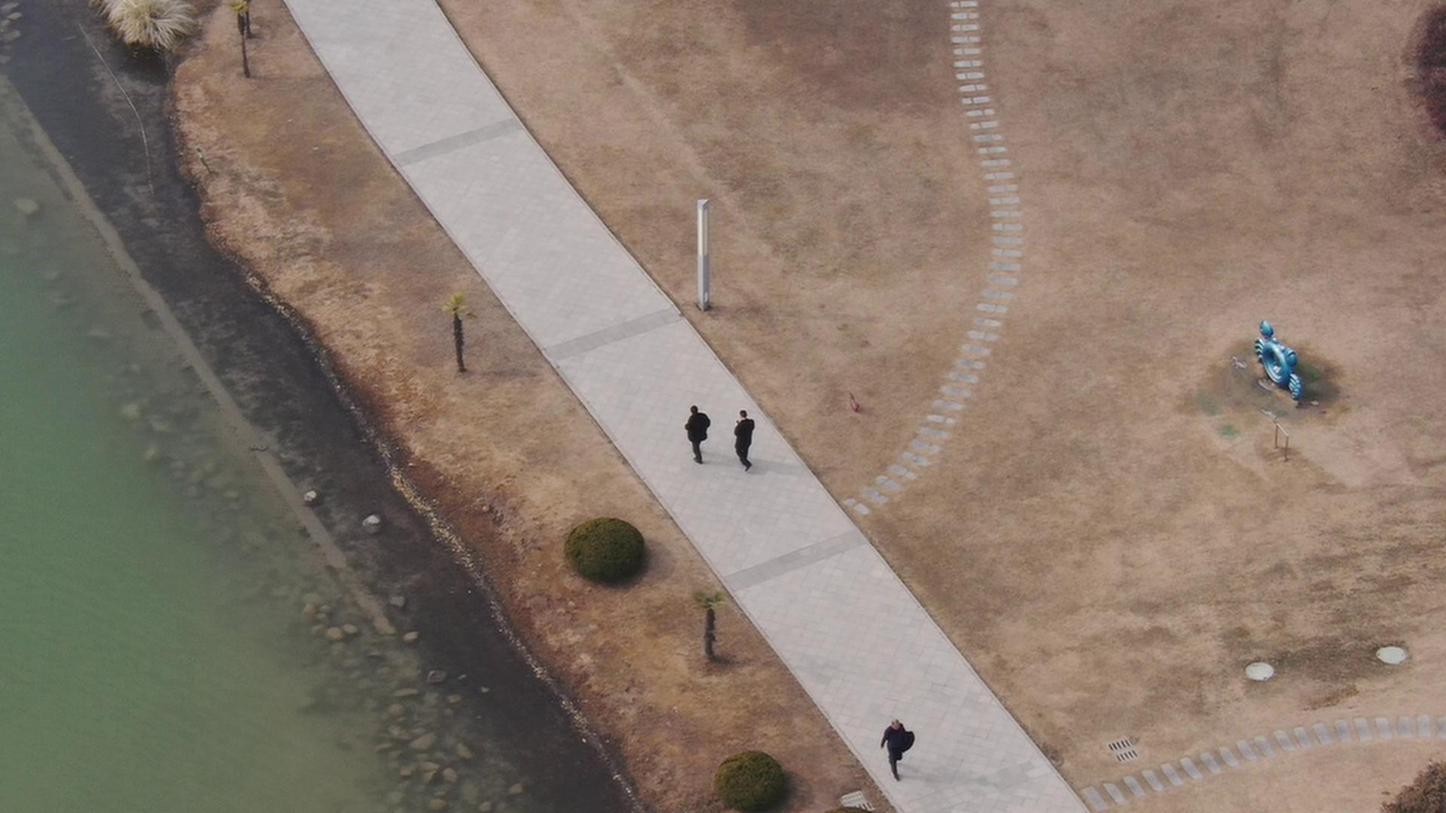human: (880, 709, 924, 787), (722, 402, 763, 479), (673, 402, 710, 473)
